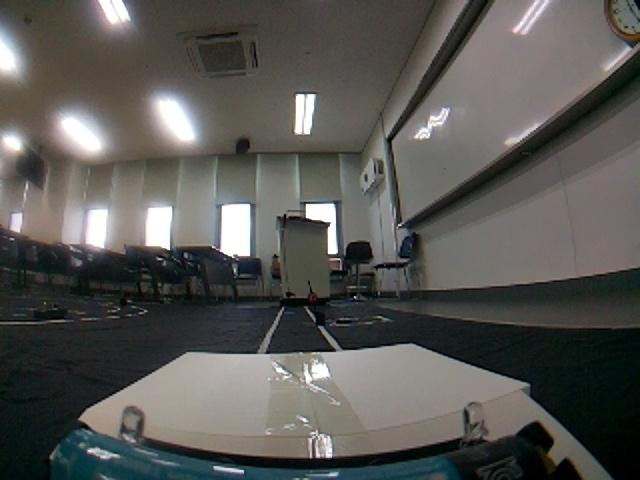hill_up: (55, 338, 640, 479)
